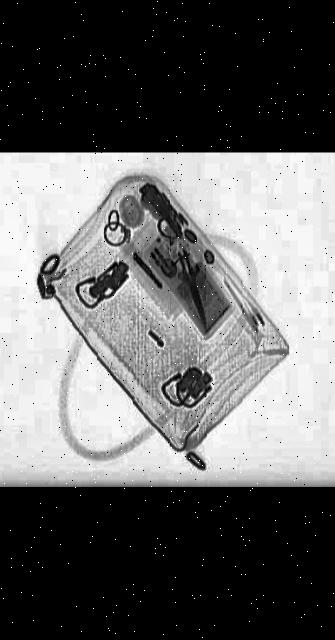Knife: (170, 247, 211, 330)
